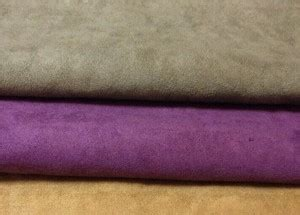gamuza: (1, 1, 300, 215)
